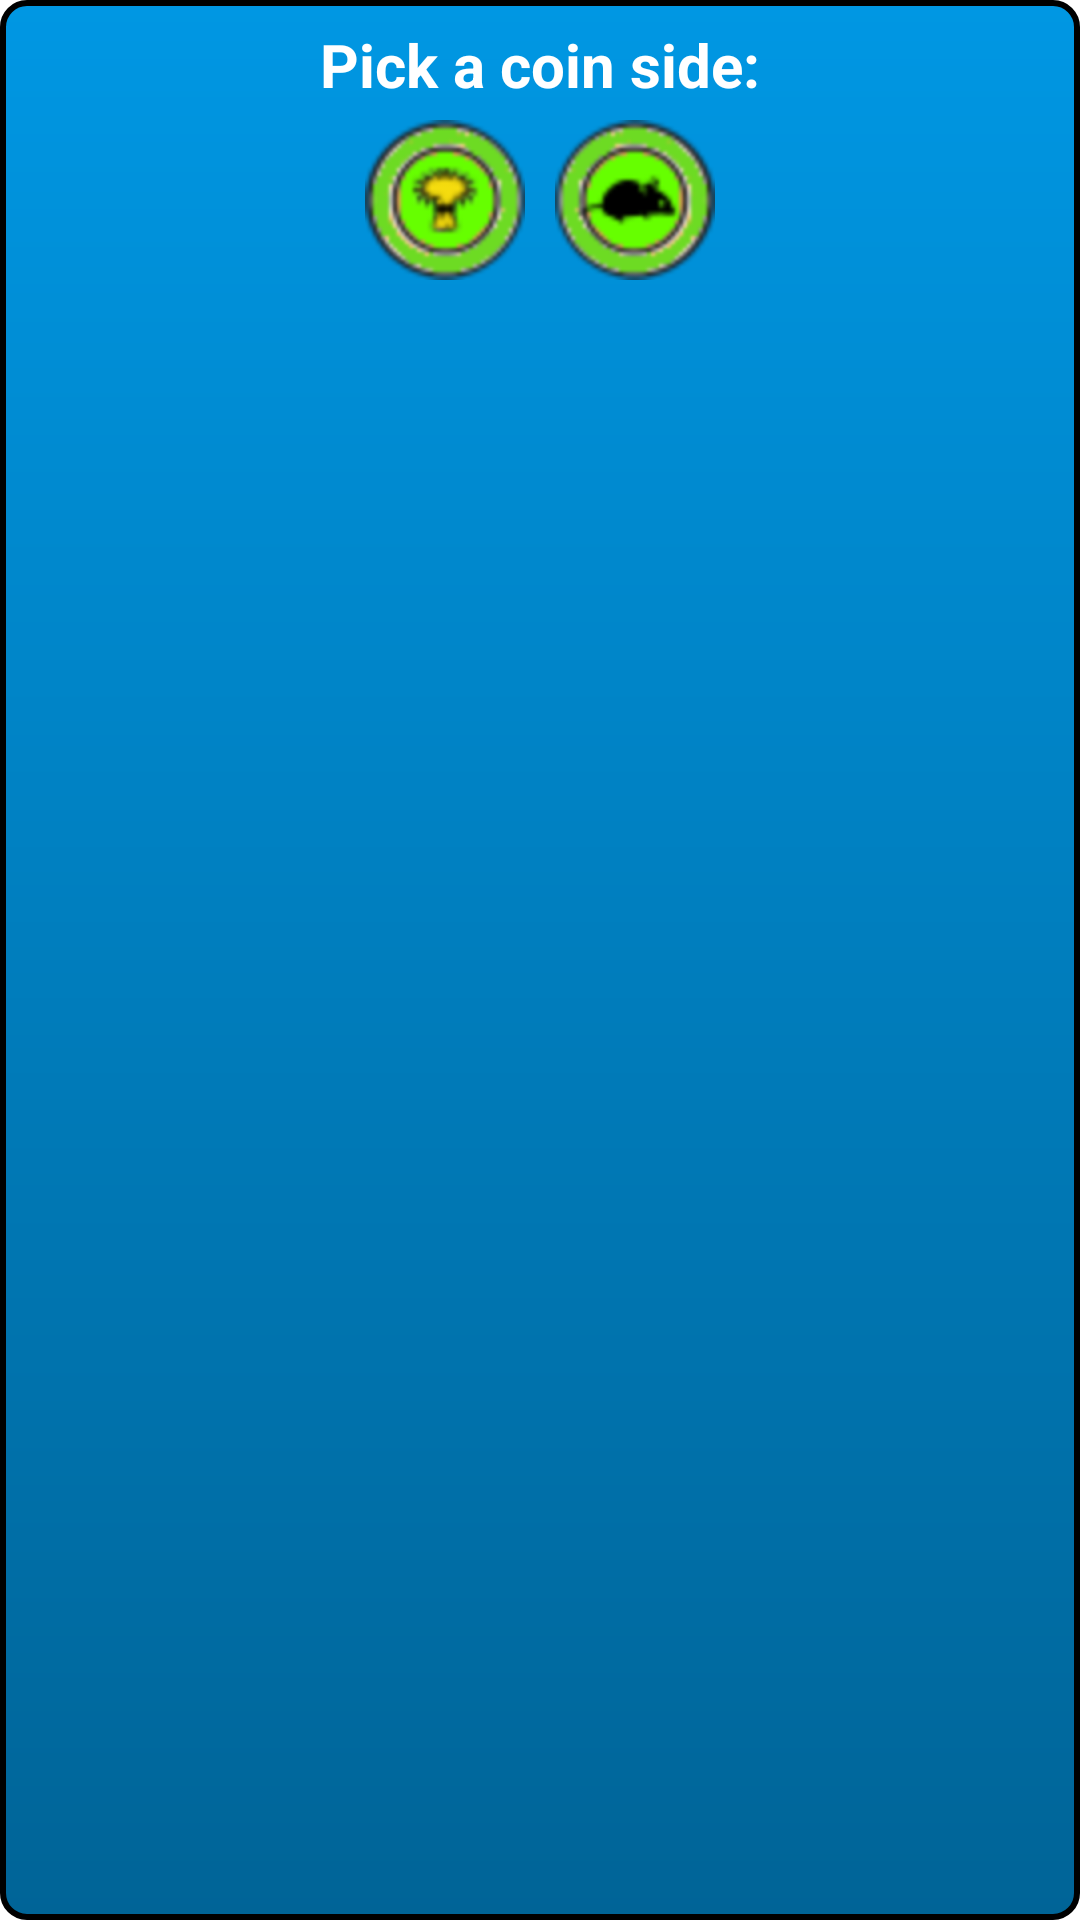

Named icons in this screenshot (1080x1920) and their bounding boxes, (x1=x1, y1=y1, x2=x2, y2=y2):
coin rat: (x1=555, y1=120, x2=715, y2=280)
coin straw: (x1=365, y1=120, x2=525, y2=280)
